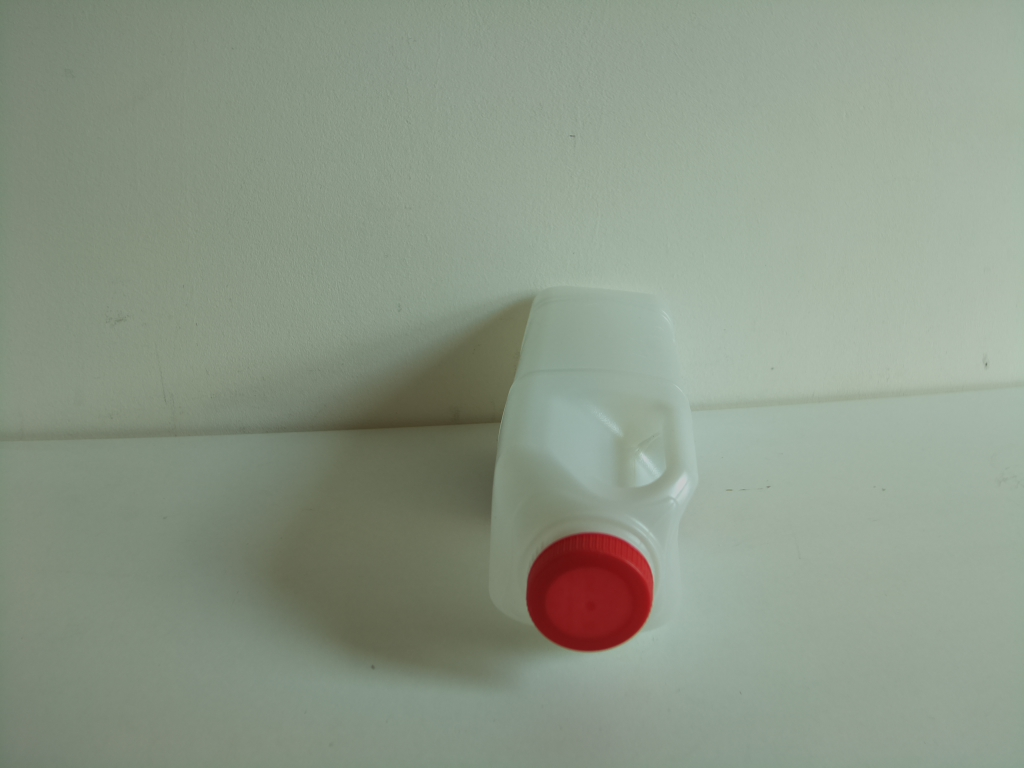milk: (482, 280, 703, 652)
